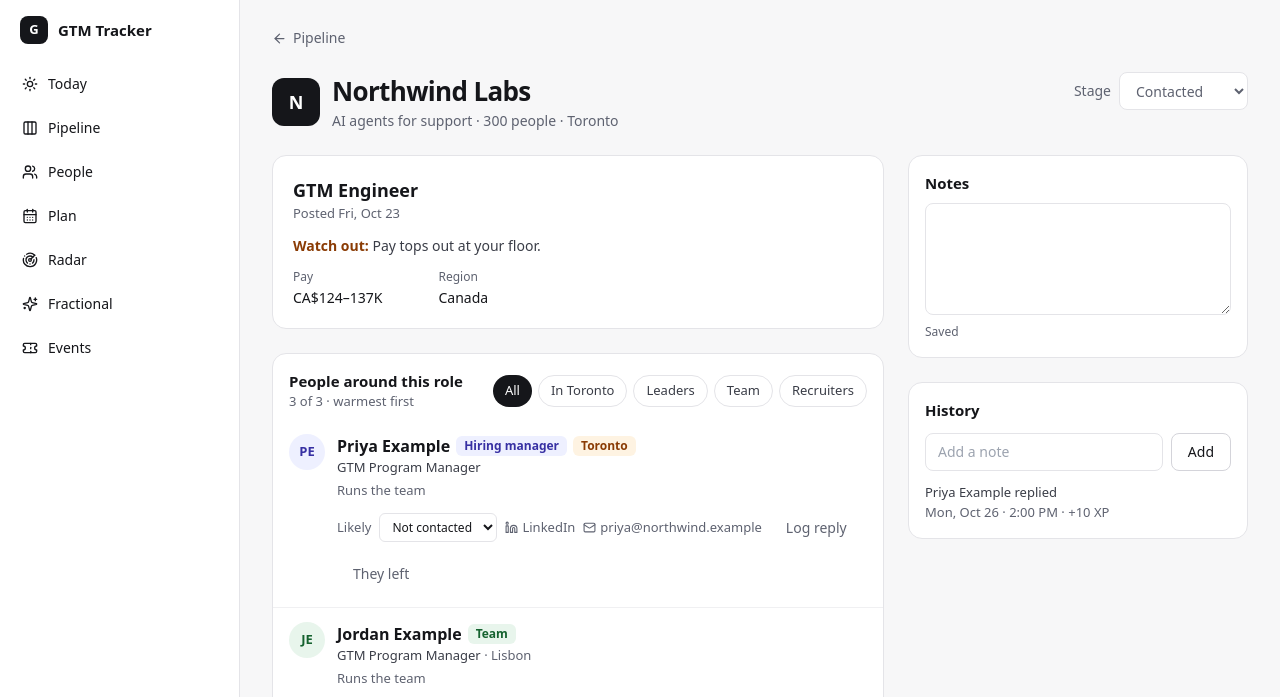
Test: Company › shows the role and everyone around it, filterable
This screenshot has width=1280, height=697.
Check: the heading "Northwind Labs" is shown, box x1=332 y1=73 x2=531 y2=109
Check: the text "Pay tops out at your floor." is shown, box x1=372 y1=236 x2=541 y2=254
Click the button "In Toronto": (583, 390) x1=538 y1=374 x2=628 y2=406
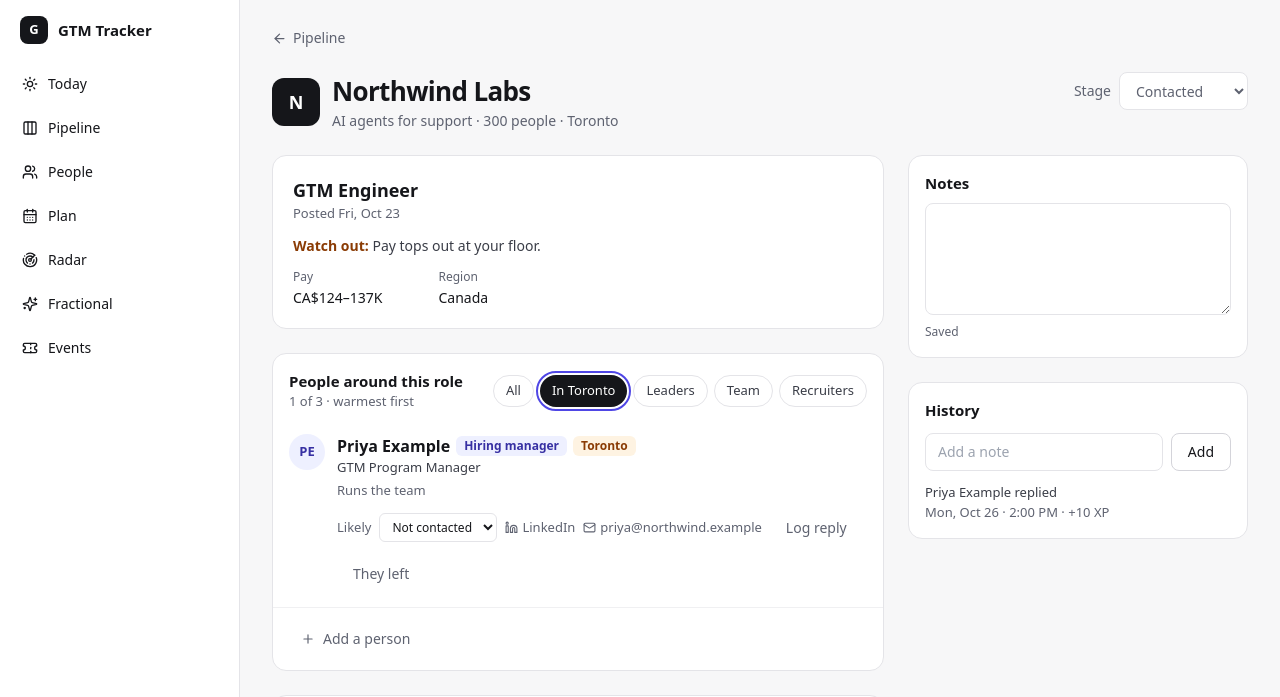
Check: the text "1 of 3 · warmest first" is shown, box x1=289 y1=392 x2=414 y2=410
Click the button "Recruiters": (823, 390) x1=779 y1=374 x2=867 y2=406
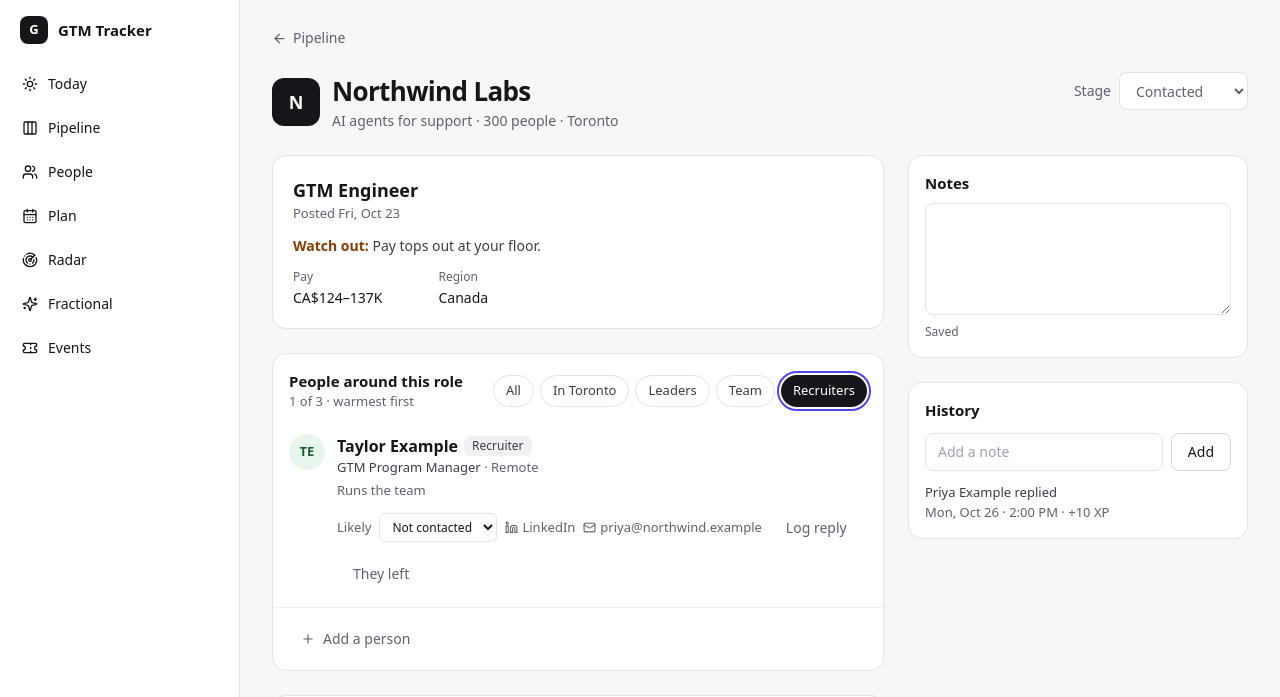
Check: the text "Mon, Oct 26 · 2:00 PM · +10 XP" is shown, box x1=925 y1=502 x2=1109 y2=520
Check: the text "Taylor Example" is shown, box x1=337 y1=434 x2=458 y2=458
